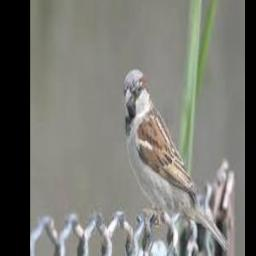Sparrow: (123, 68, 229, 256)
